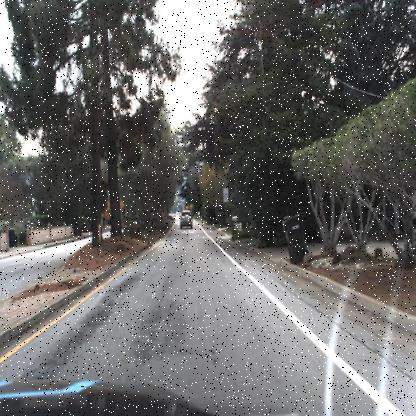car: (176, 208, 194, 230)
